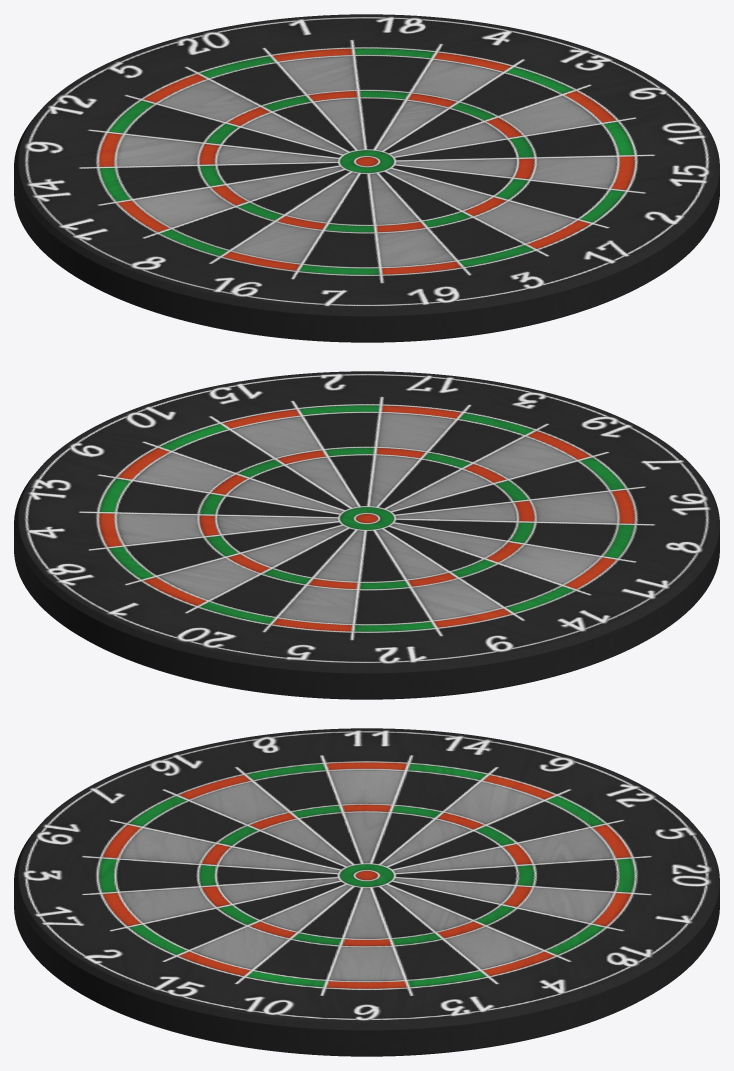
File: dartboard.glb
3 renders of one model, top to bottom at view 1: azimuth 30°, elevation 25°; view 2: azimuth 150°, elevation 25°; view 3: azimuth 270°, elevation 25°, orthographic.
Parts seen in each view (by area): view 1: 11721_darboard_V4_L3; view 2: 11721_darboard_V4_L3; view 3: 11721_darboard_V4_L3.
Part boxes in pixels (left/top/right/bottom): 11721_darboard_V4_L3: left=14, top=14, right=719, bottom=342; 11721_darboard_V4_L3: left=14, top=371, right=719, bottom=699; 11721_darboard_V4_L3: left=14, top=728, right=719, bottom=1056.
Bounding box in the file's own units: 0.6096 × 0.0317 × 0.6096.
1 material, 1 textured.
